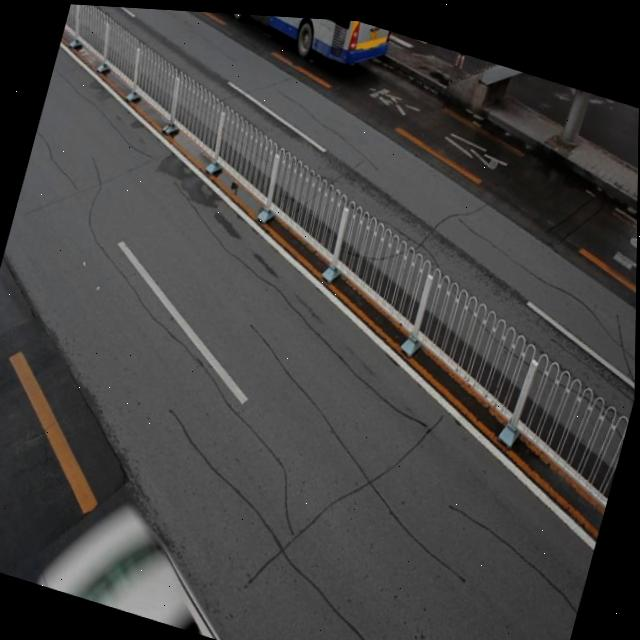car: (44, 487, 260, 640)
van: (159, 7, 389, 74)
